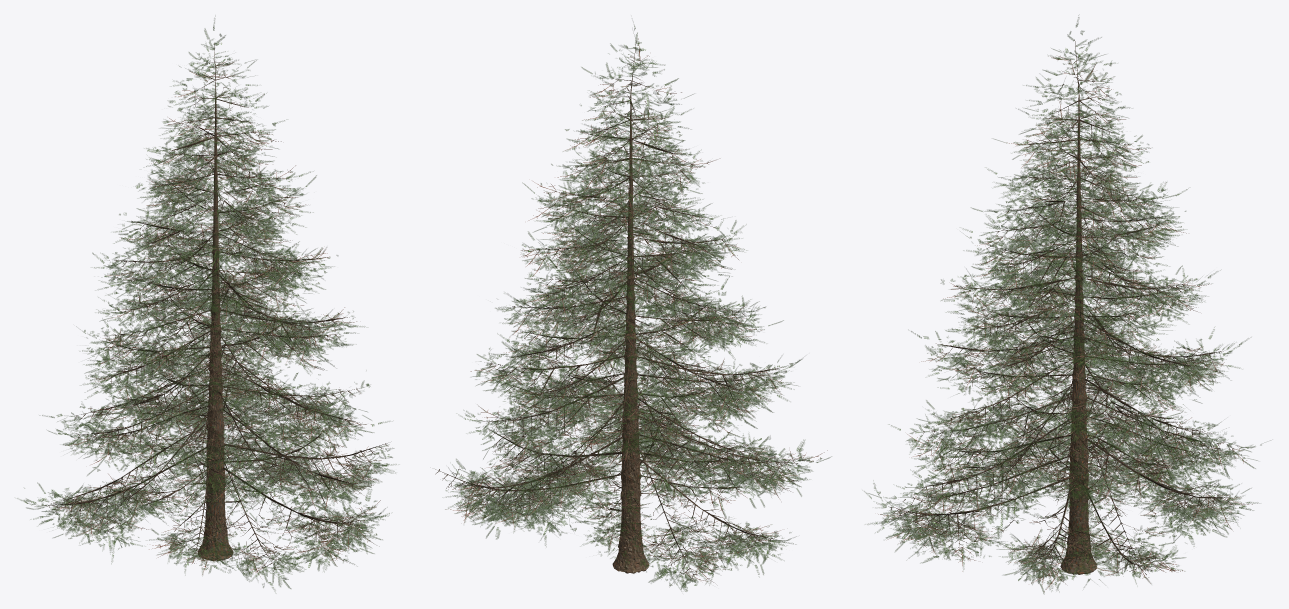
File: bk_grand_fir_v10_lod0.glb
3 views of the same model, side by side, from view 1: azimuth 30°, elevation 25°; view 2: azimuth 150°, elevation 25°; view 3: azimuth 270°, elevation 25° (orthographic). The views are drawn at different scales.
Parts seen in each view (by area): view 1: foliage, foliage_2, branches, trunk; view 2: foliage, foliage_2, branches, trunk; view 3: foliage, foliage_2, branches, trunk.
Part boxes in pixels (x1=…): foliage: x1=17, y1=18, x2=396, y2=590; foliage_2: x1=24, y1=28, x2=394, y2=565; branches: x1=44, y1=59, x2=388, y2=571; trunk: x1=198, y1=43, x2=232, y2=560; foliage: x1=445, y1=22, x2=831, y2=591; foliage_2: x1=445, y1=32, x2=818, y2=562; branches: x1=435, y1=59, x2=797, y2=579; trunk: x1=612, y1=41, x2=648, y2=573; foliage: x1=864, y1=15, x2=1270, y2=594; foliage_2: x1=873, y1=37, x2=1227, y2=575; branches: x1=888, y1=59, x2=1238, y2=575; trunk: x1=1060, y1=40, x2=1096, y2=574.
Size of the model in its own units: 5.47 by 8.11 by 5.49.
4 materials, 4 textured.
